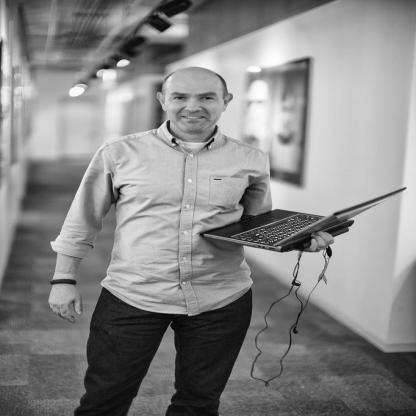board: (200, 186, 410, 253)
